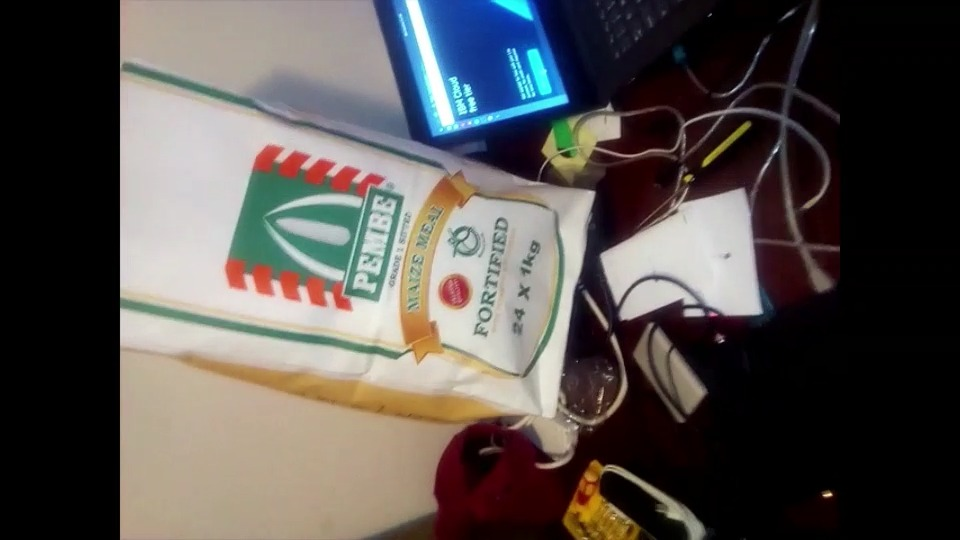maize_flour_green_label: (119, 62, 594, 417)
